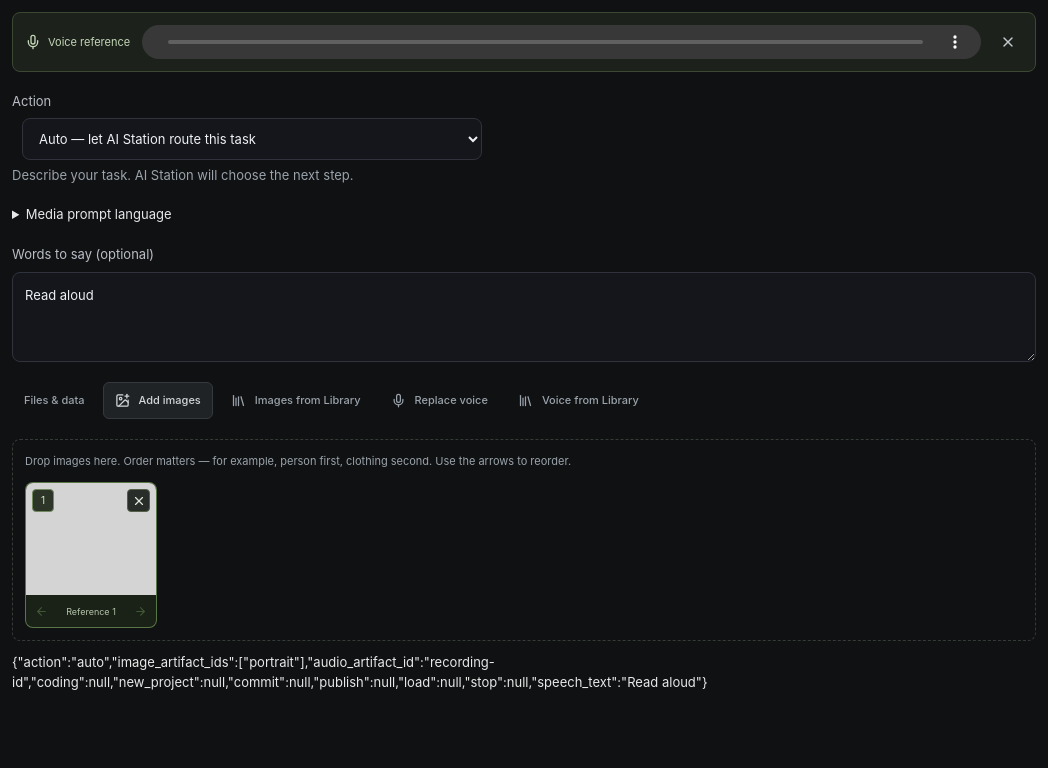
Test: keeps the recording and clears incompatible references when choosing an audio question
Select "Understand a recording" in the dropdown labelled "Action": (252, 138) [22,118,482,160]
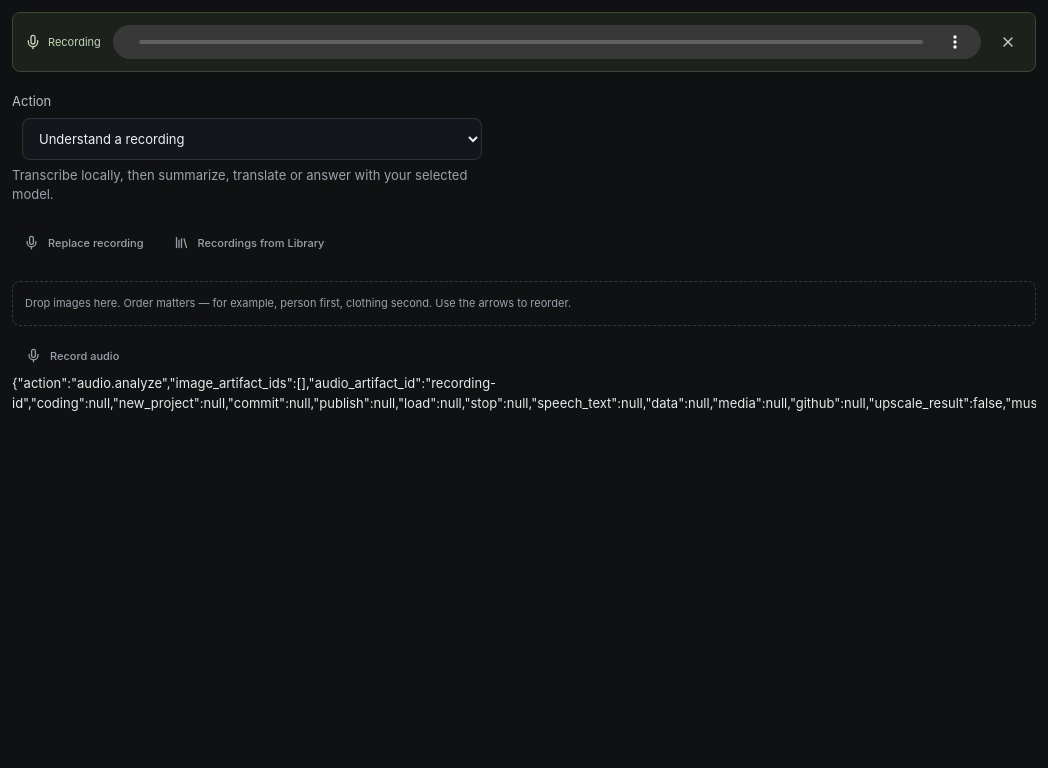
expect the element named "Recording · WAV, MP3, M4A, Ogg, WebM or FLAC" is shown: met, box [12,12,1036,326]
expect the text with alt text "Reference 1" is gone: met
